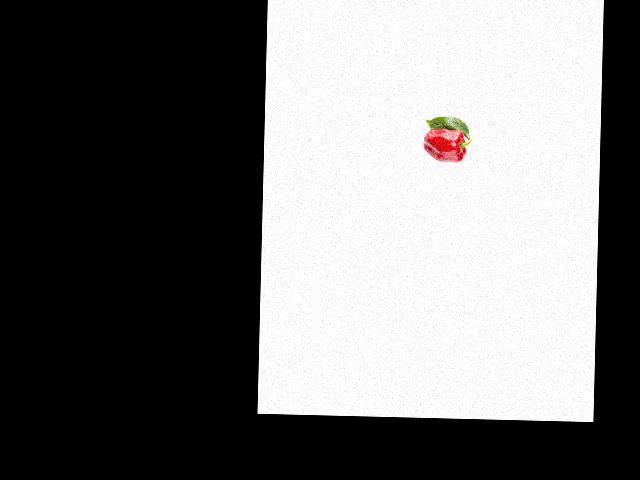bell_pepper: (421, 125, 471, 166)
